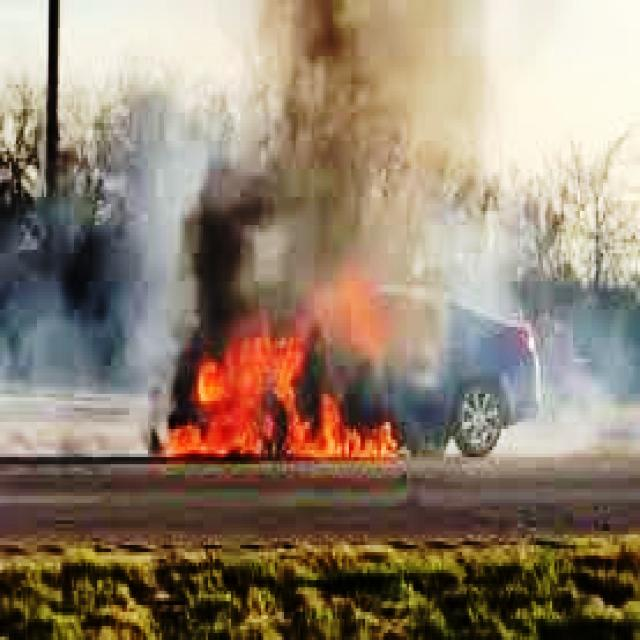api: (149, 317, 398, 490), (315, 272, 396, 360)
